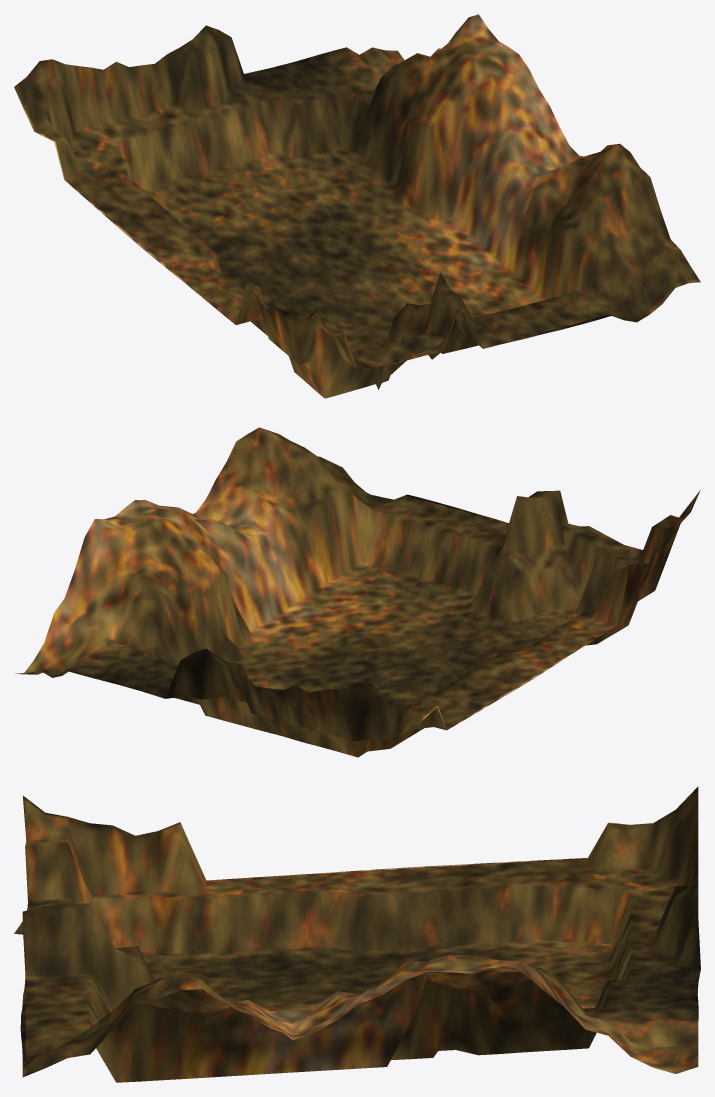
The model's file is kazan5.FBX.
The picture shows the model from 3 angles, top to bottom: view 1: azimuth 30°, elevation 25°; view 2: azimuth 150°, elevation 25°; view 3: azimuth 270°, elevation 25°; orthographic projection. The views are drawn at different scales.
Parts seen in each view (by area): view 1: Plane001; view 2: Plane001; view 3: Plane001.
Boxes of the visible parts, x1,y1,x2,y2 form: Plane001: (14, 14, 700, 398); Plane001: (15, 427, 700, 757); Plane001: (14, 786, 700, 1082).
Size of the model in its own units: 135 by 54.21 by 188.
Materials: 1 (1 with a texture image).
